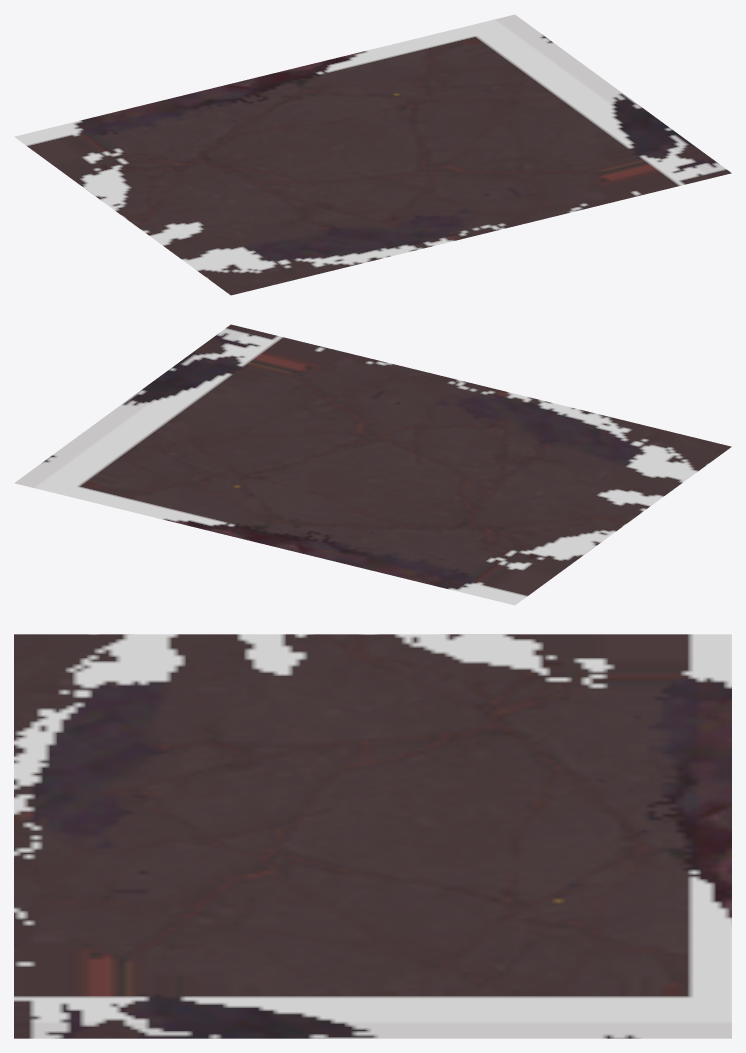
The model's file is s_stickers_autumn_9.fbx.
3 views of the same model, one above another, from view 1: azimuth 30°, elevation 25°; view 2: azimuth 150°, elevation 25°; view 3: azimuth 270°, elevation 25° (orthographic). The views are drawn at different scales.
Parts seen in each view (by area): view 1: s_stickers_autumn_9; view 2: s_stickers_autumn_9; view 3: s_stickers_autumn_9.
Part boxes in pixels (x1,y1,x2,y2): s_stickers_autumn_9: (14,14,731,295); s_stickers_autumn_9: (14,324,731,605); s_stickers_autumn_9: (14,634,731,1038).
Bounding box in the file's own units: 2 × 3.33e-16 × 1.5.
